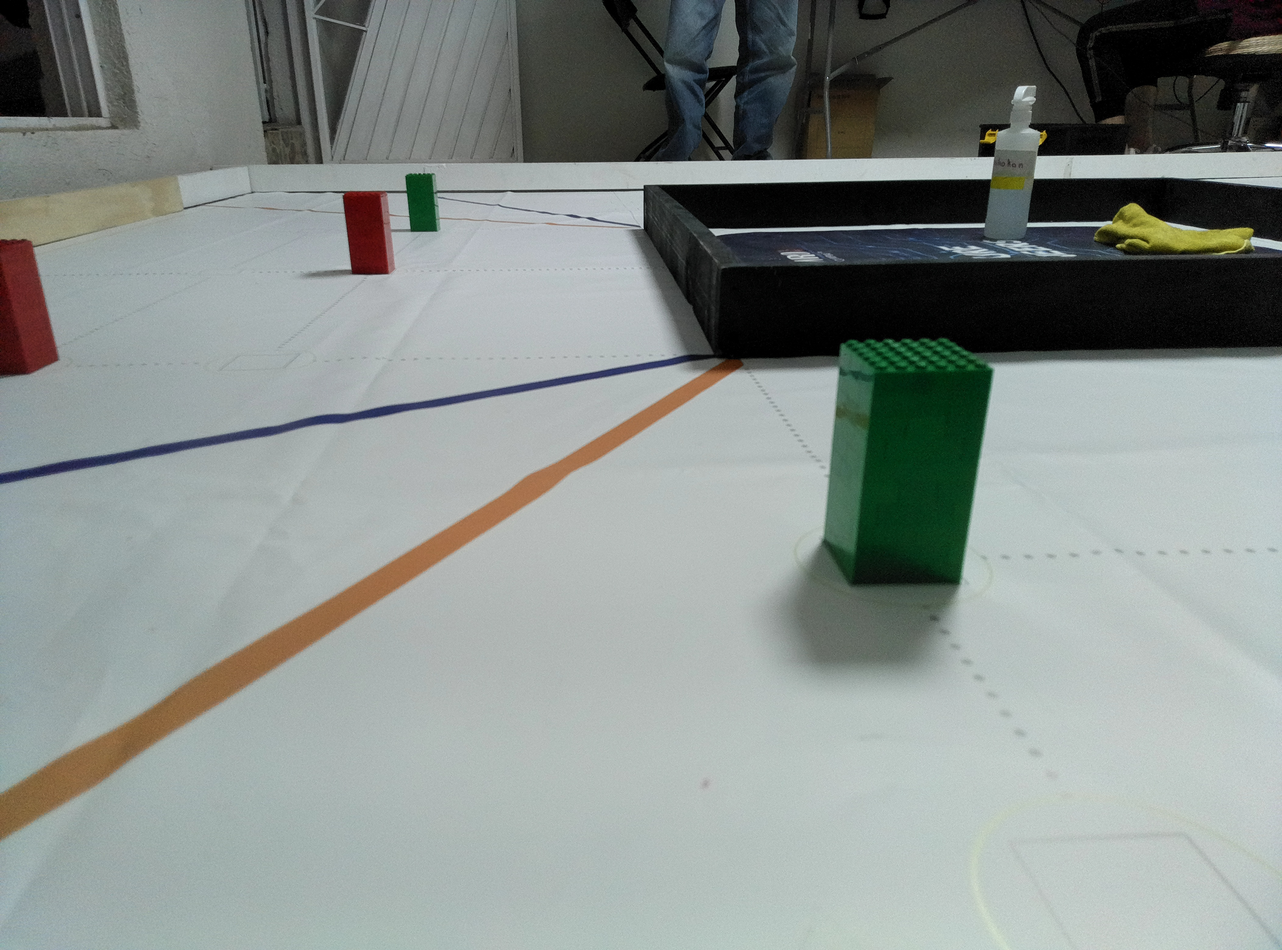greenbox: (819, 338, 997, 587), (403, 171, 440, 233)
redbox: (0, 237, 66, 374), (341, 189, 398, 275)
